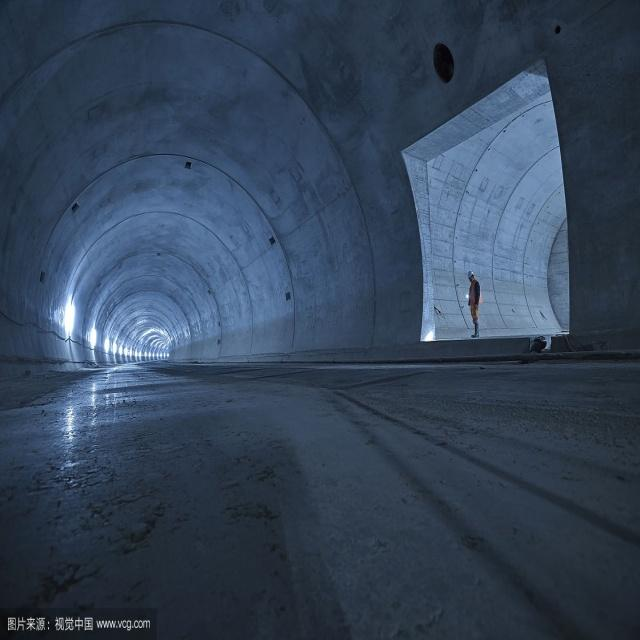helmet: (466, 359, 476, 377)
